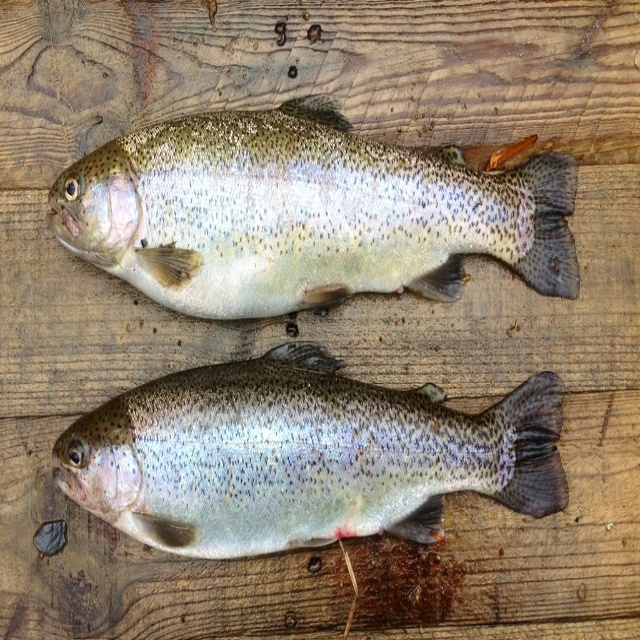Fish: (44, 89, 582, 321), (50, 341, 570, 559)
